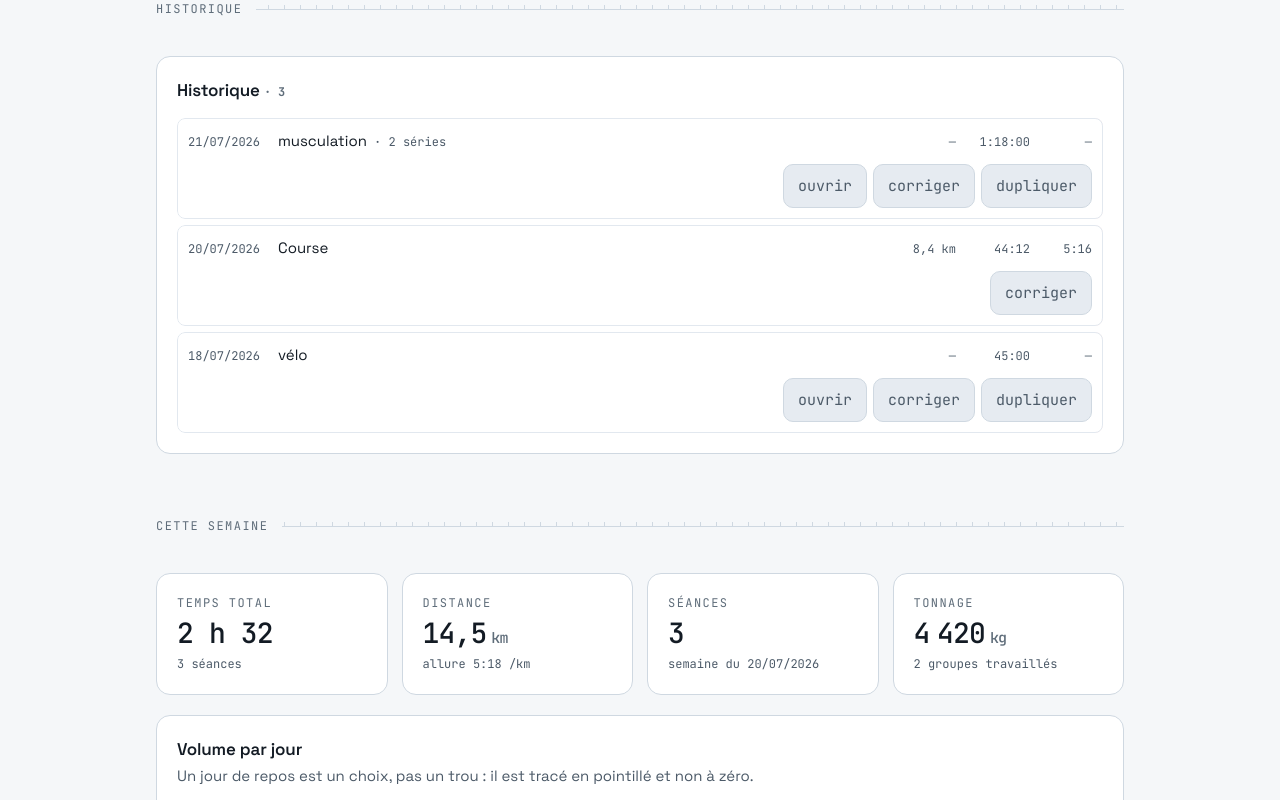
it: écran Activité › ouvre le journal sur la séance choisie depuis l’historique
The width and height of the screenshot is (1280, 800).
(page scrolled)
Click the button with aria-label "Ouvrir la séance du 18": (825,400) [783,378,867,422]
(page scrolled)
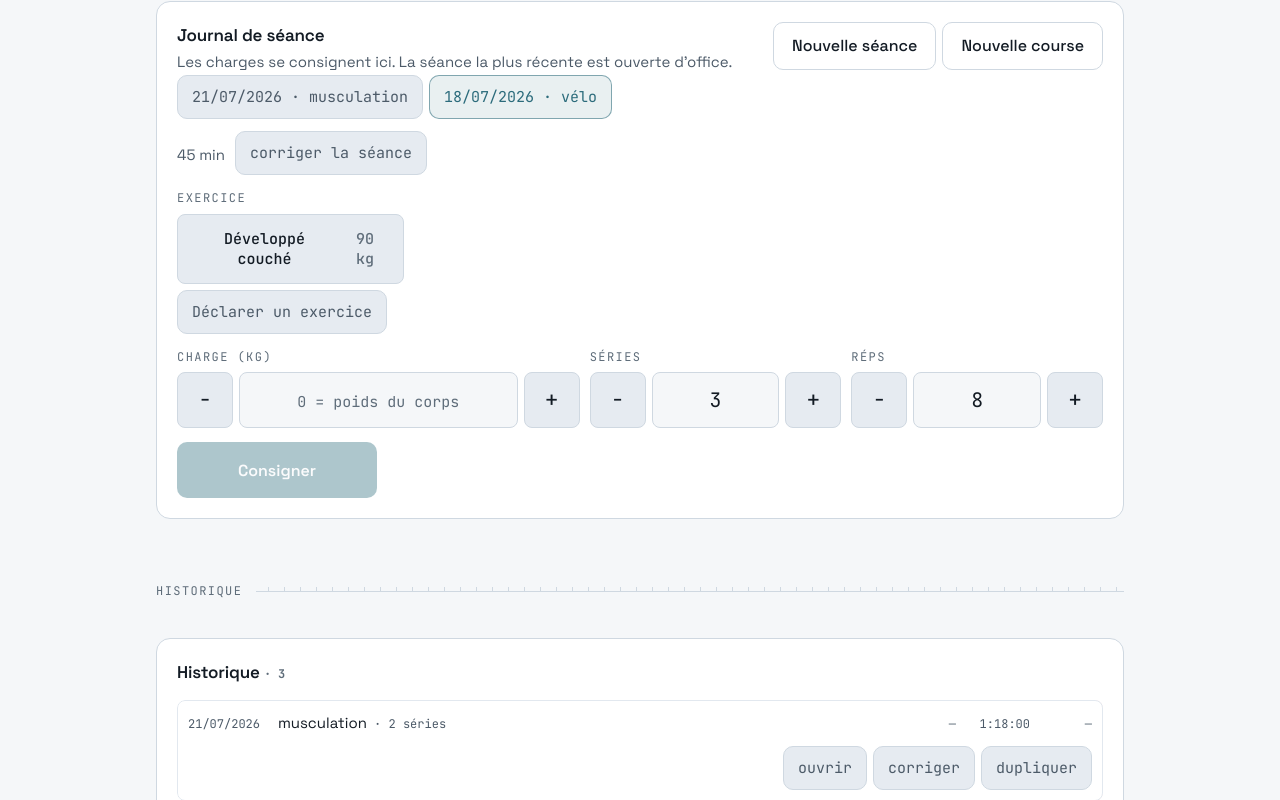
Expected: the text "45 min" is shown, [177,143,225,166]
